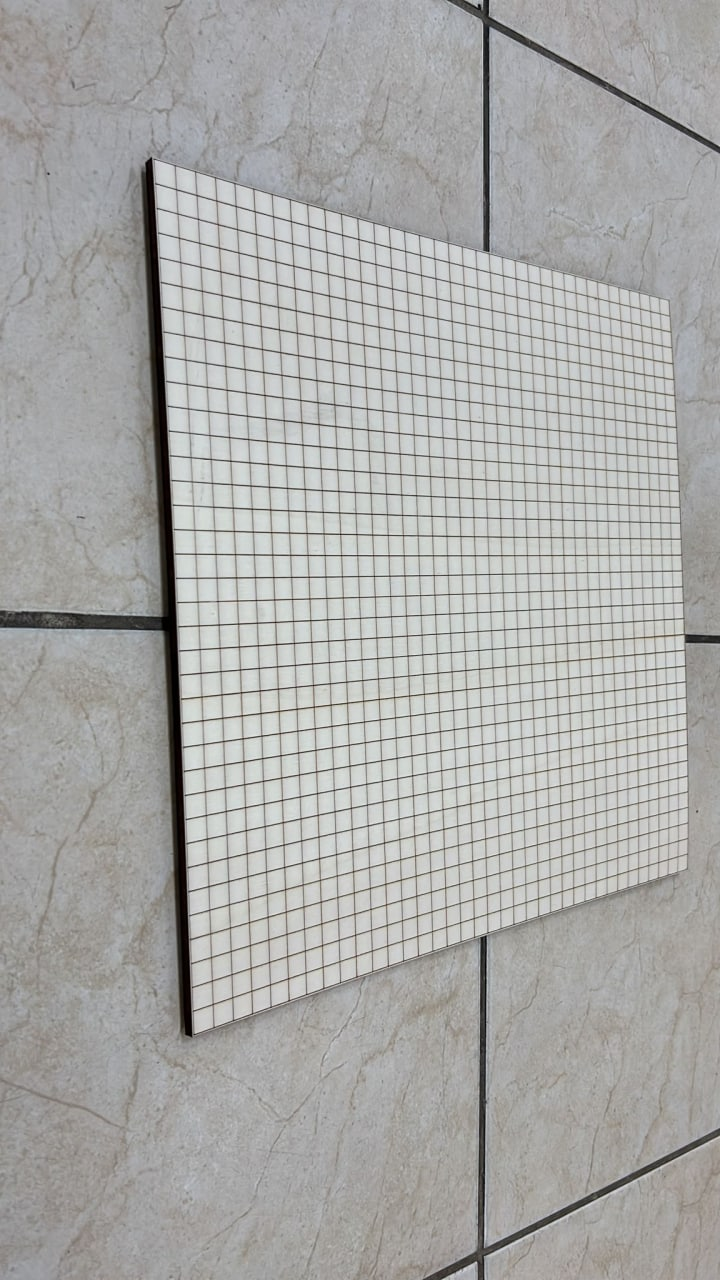grid: (127, 145, 695, 1050)
